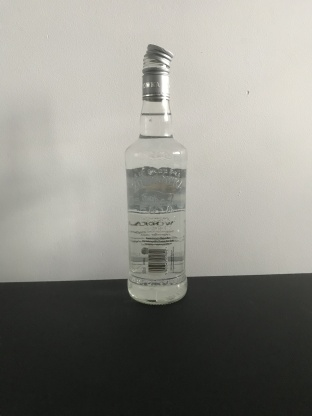nakretka: (140, 41, 174, 102)
